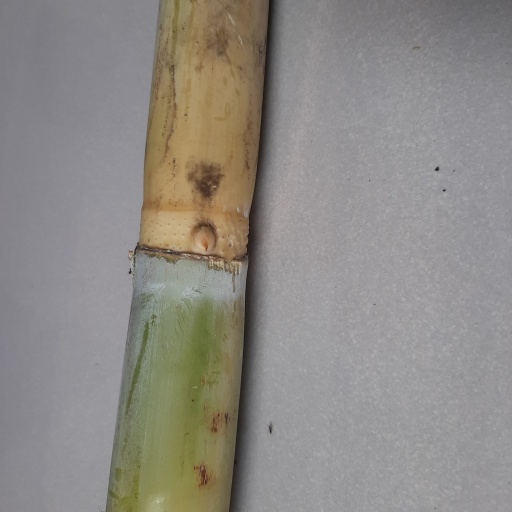Bud: (190, 221, 218, 256)
